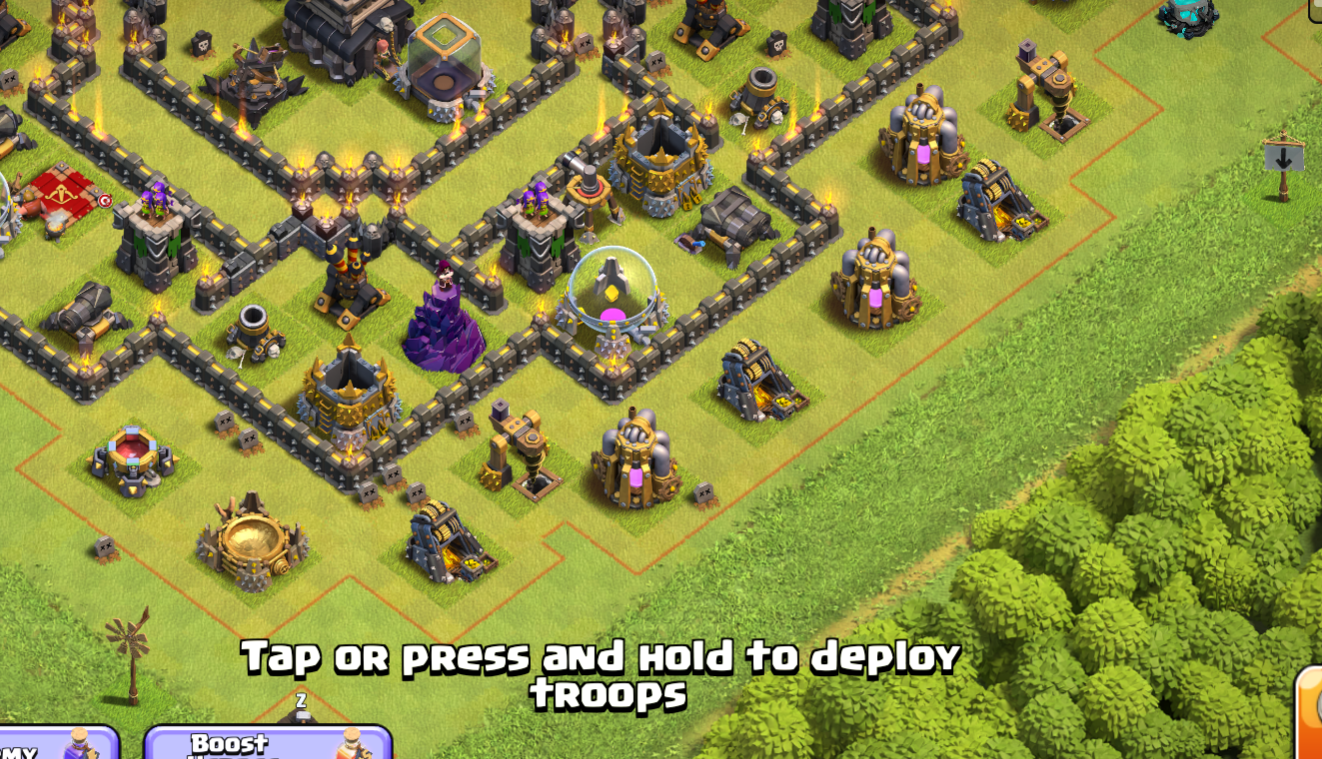dark_elixir_colector: (469, 391, 573, 537)
elixir_colector: (819, 224, 931, 344), (583, 411, 687, 530), (871, 80, 979, 194)
gold_mine: (941, 158, 1053, 267), (696, 339, 813, 436), (384, 501, 501, 596)
